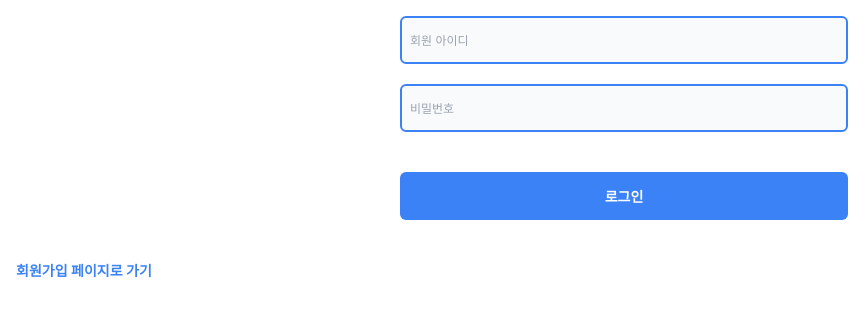
Test case: <LoginPage /> › 로그인 실패 시 검증 실패 사유 메세지가 출력된다.
The image size is (866, 312).
Type "abc123" into the field named "아이디 입력칸" at (624, 40), box [400,16,848,64]
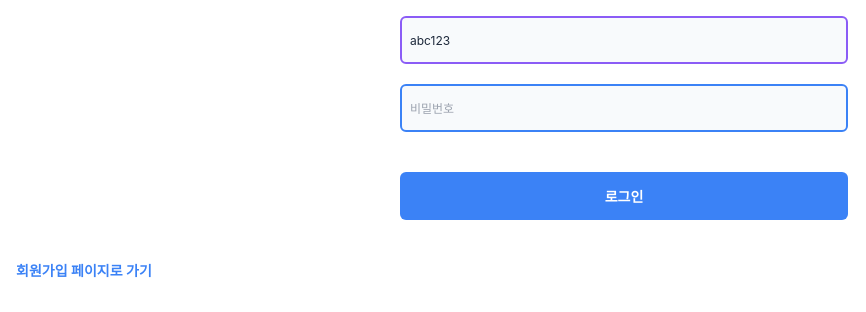
Type "pasword123" into the password field named "비밀번호 입력칸" at (624, 108), box [400,84,848,132]
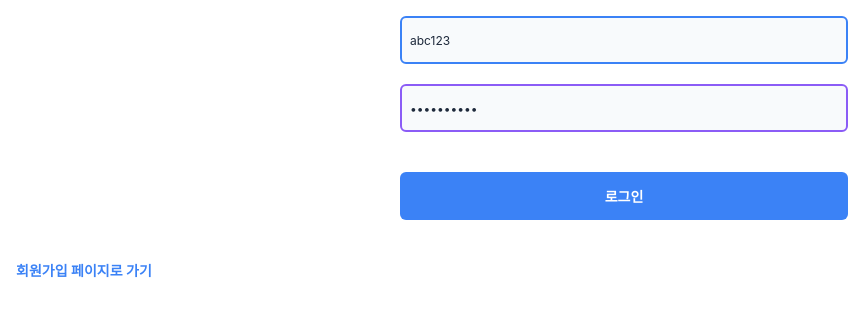
Click the button "로그인" at (624, 196), box [400,172,848,220]
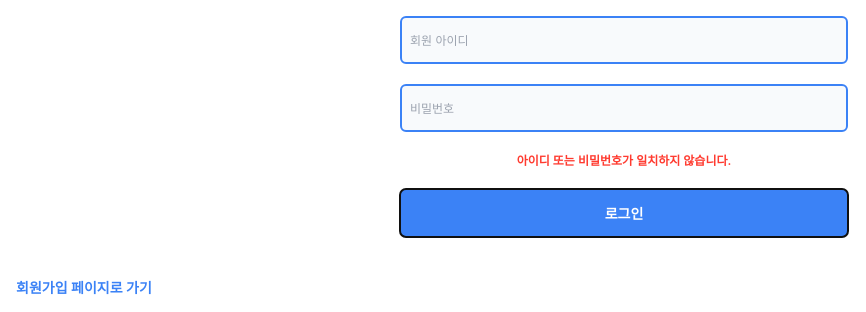
Expected: the text with test id "validate-message" reads "아이디 또는 비밀번호가 일치하지 않습니다.", [517,153,731,168]
